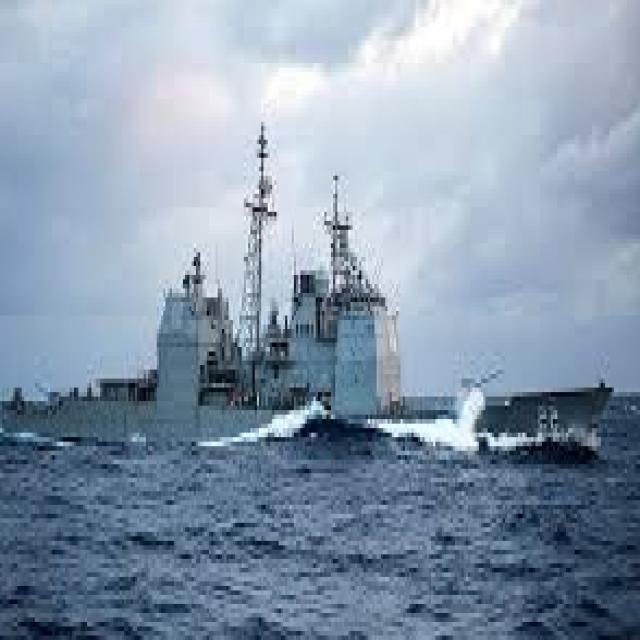navalvessels: (0, 99, 612, 469)
